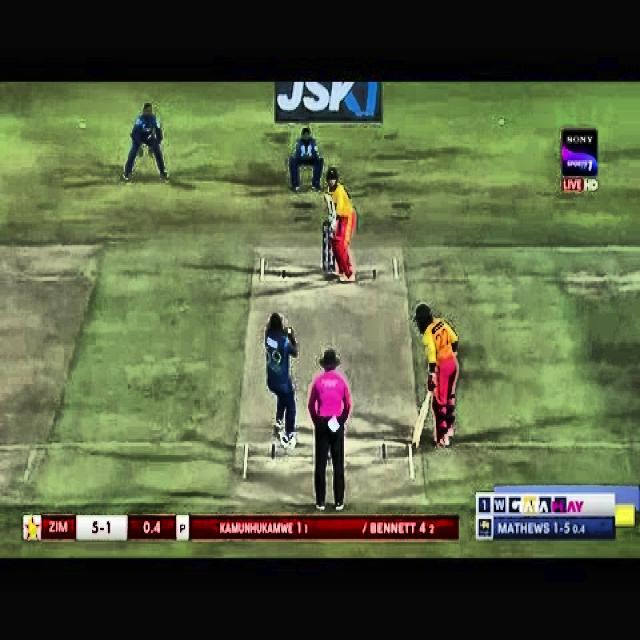Left-stump: (323, 221, 325, 271)
Middle-stump: (328, 242, 331, 270)
Right-stump: (332, 255, 335, 270)
